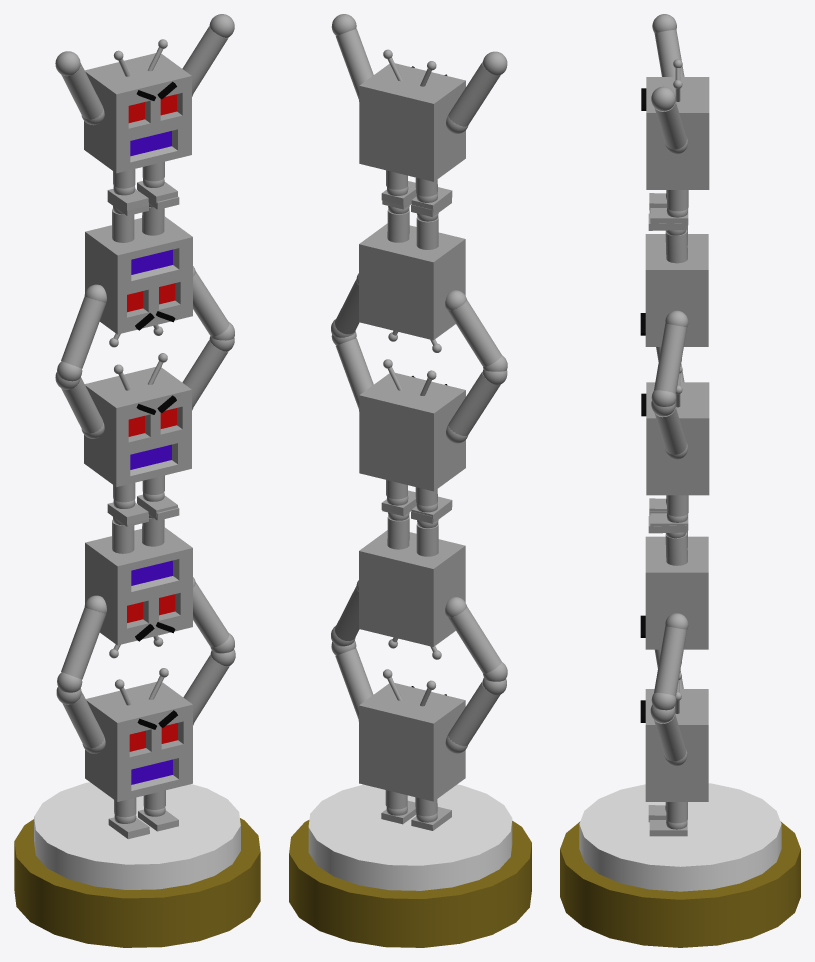
The model's file is Statue.fbx.
The picture shows the model from 3 angles, left to right: view 1: azimuth 30°, elevation 25°; view 2: azimuth 150°, elevation 25°; view 3: azimuth 270°, elevation 25°; orthographic projection. The views are drawn at different scales.
Parts seen in each view (by area): view 1: polySurface19; view 2: polySurface19; view 3: polySurface19.
Boxes of the visible parts, left/top/right/bottom form: polySurface19: left=14, top=14, right=260, bottom=947; polySurface19: left=289, top=14, right=531, bottom=947; polySurface19: left=560, top=14, right=800, bottom=947.
Size of the model in its own units: 13.25 by 51.3 by 13.25.
